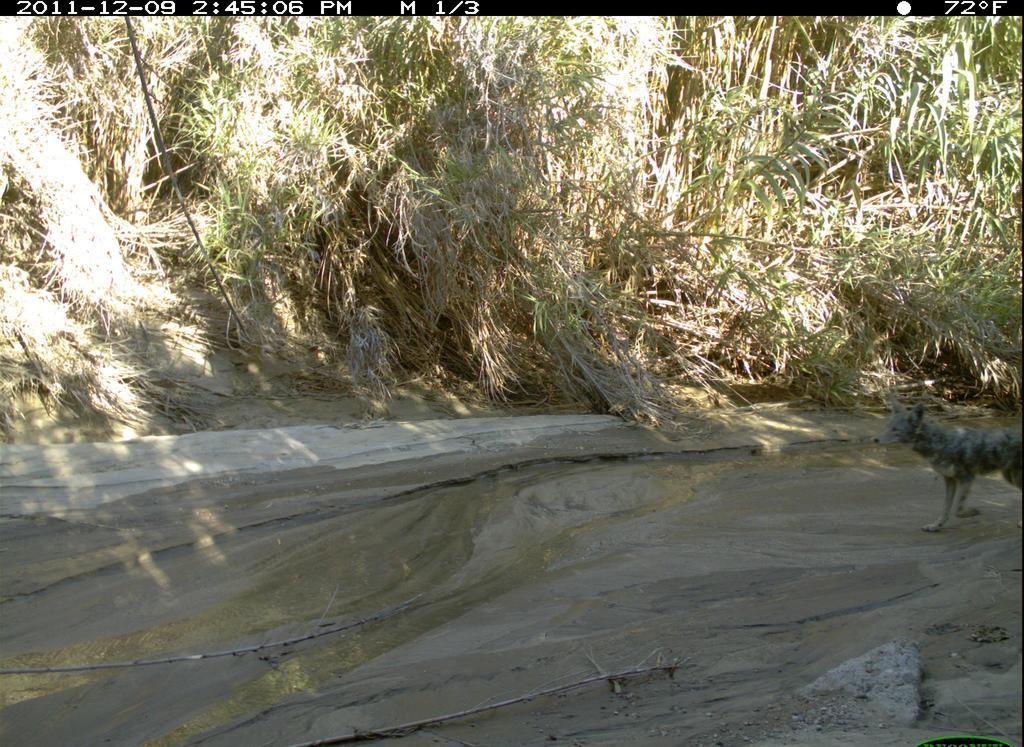coyote: (875, 396, 1023, 537)
